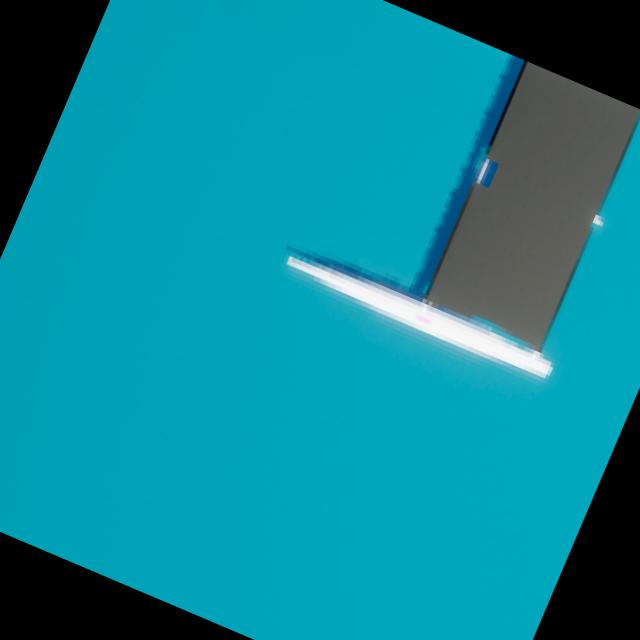boat: (257, 0, 640, 409)
drone: (420, 59, 640, 350)
